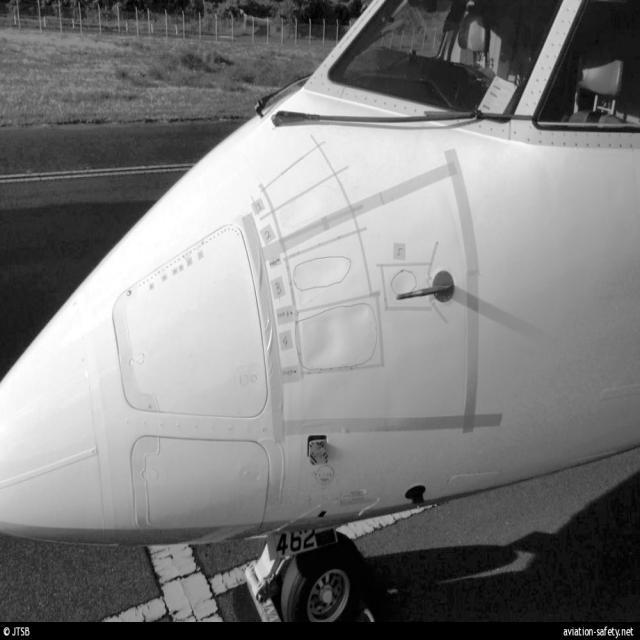dent: (298, 299, 373, 378)
